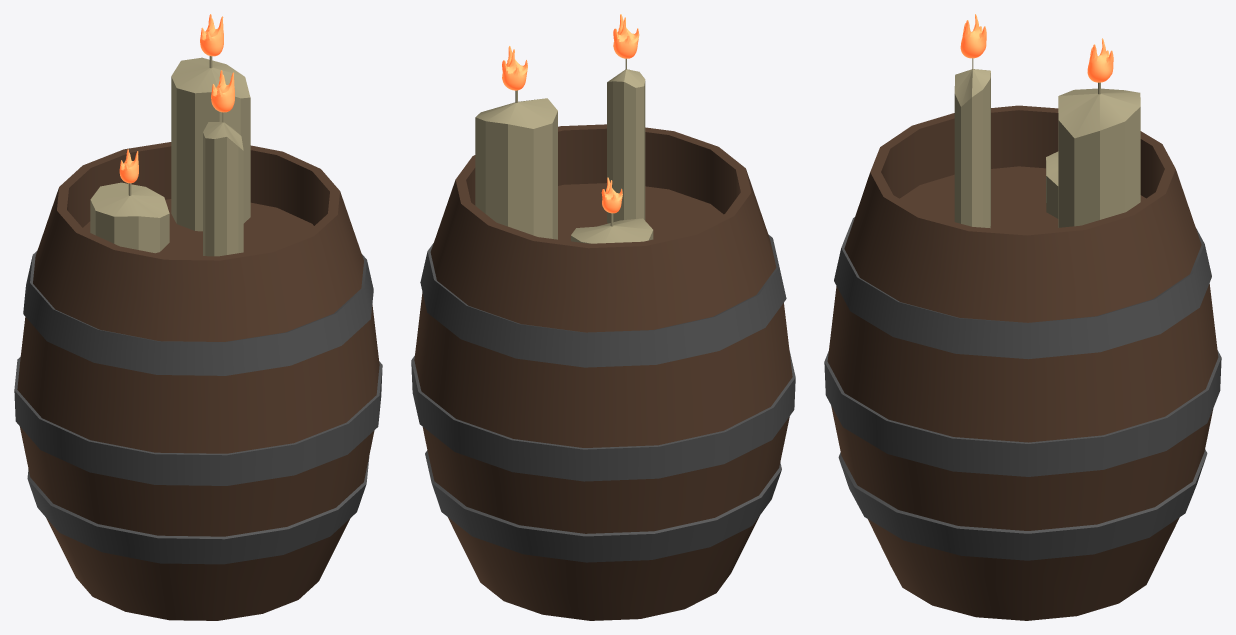
Rendered from Barile + candele 2 .fbx.
The picture shows the model from 3 angles, left to right: view 1: azimuth 30°, elevation 25°; view 2: azimuth 150°, elevation 25°; view 3: azimuth 270°, elevation 25°; orthographic projection. The views are drawn at different scales.
Visible parts, largest first — view 1: T. Barrel 1 .006; view 2: T. Barrel 1 .006; view 3: T. Barrel 1 .006.
Boxes of the visible parts, x1,y1,x2,y2 form: T. Barrel 1 .006: [14, 14, 382, 620]; T. Barrel 1 .006: [411, 14, 795, 620]; T. Barrel 1 .006: [824, 14, 1221, 620].
Size of the model in its own units: 157 by 239 by 156.
